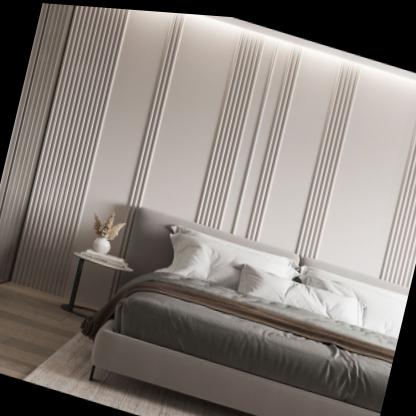Bed: (85, 199, 409, 416)
Futec frame: (31, 2, 416, 286)
